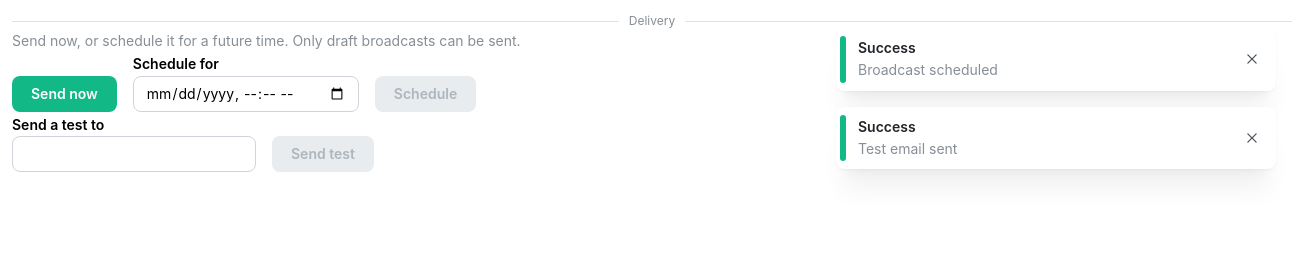
Scenario: a rejected test send shows the error toast
The width and height of the screenshot is (1292, 275).
In the field labelled "Send a test to": (134, 154) [12,136,256,172], type "qa@example.com"
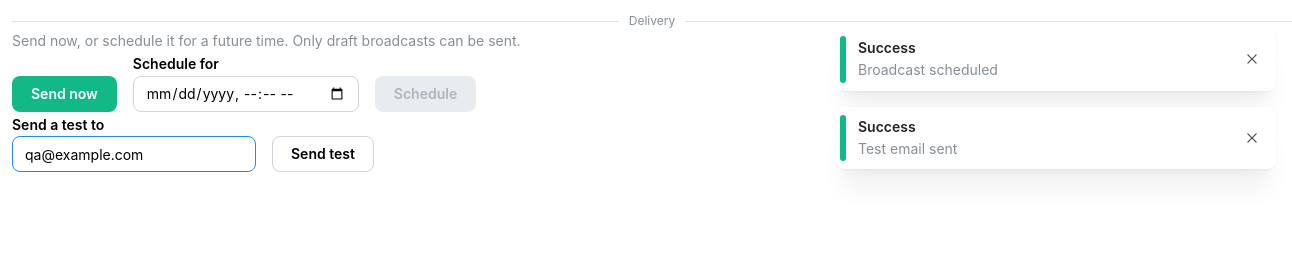
Click the button "Send test": click(323, 154) [272,136,374,172]
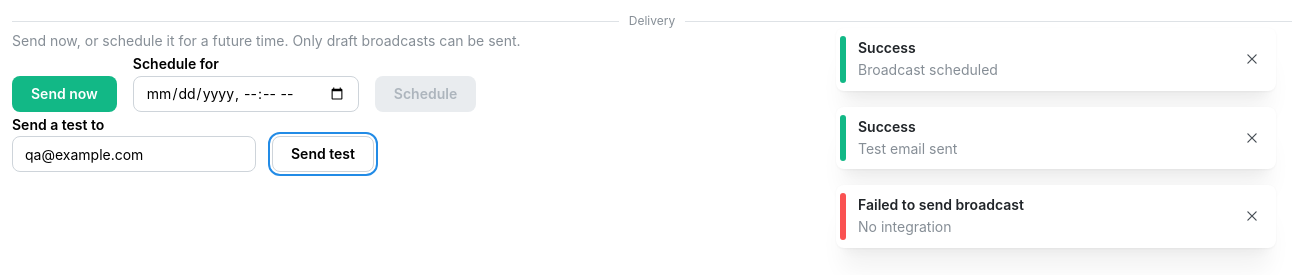
Now the text "Failed to send broadcast" is shown, box [858,196,1024,213]
